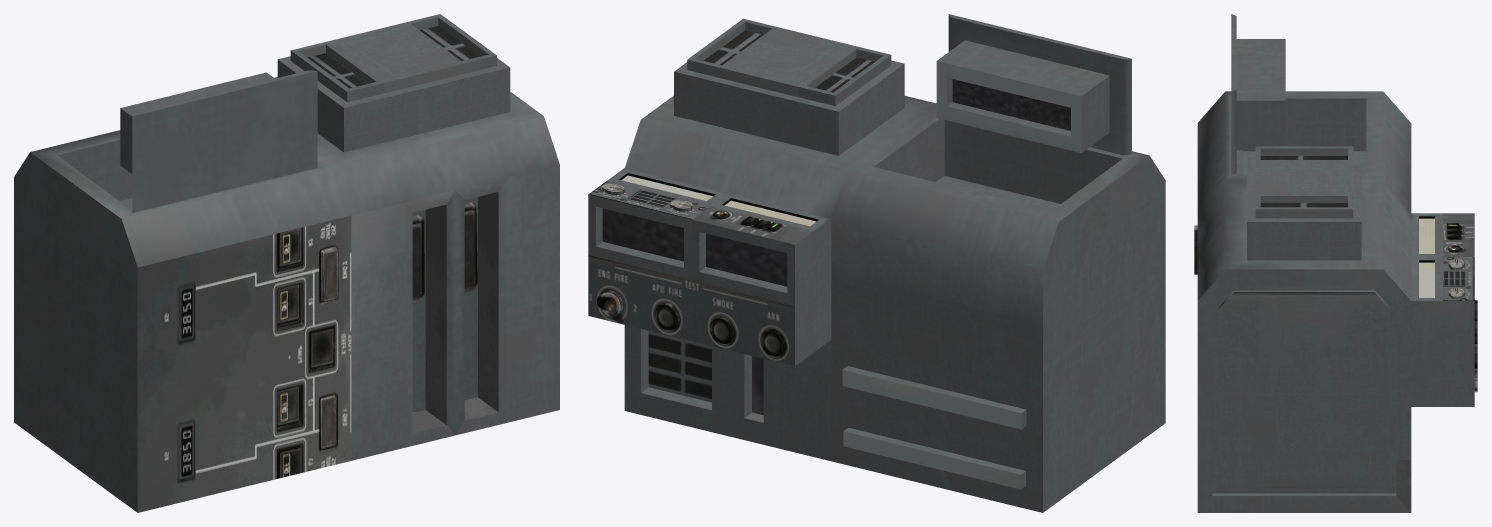
File: control_panel.glb
The picture shows the model from 3 angles, left to right: view 1: azimuth 30°, elevation 25°; view 2: azimuth 150°, elevation 25°; view 3: azimuth 270°, elevation 25°; orthographic projection. The views are drawn at different scales.
Parts seen in each view (by area): view 1: Control Panel_0; view 2: Control Panel_0; view 3: Control Panel_0.
Part boxes in pixels (x1,y1,x2,y2): Control Panel_0: (14, 14, 559, 512); Control Panel_0: (588, 14, 1165, 512); Control Panel_0: (1194, 14, 1477, 512).
Size of the model in its own units: 1.71 by 1.46 by 1.15.
Materials: 1 (1 with a texture image).
